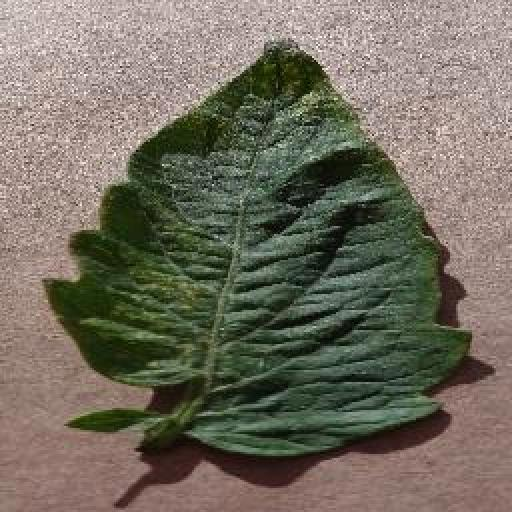disease_tomato: (41, 44, 471, 458)
